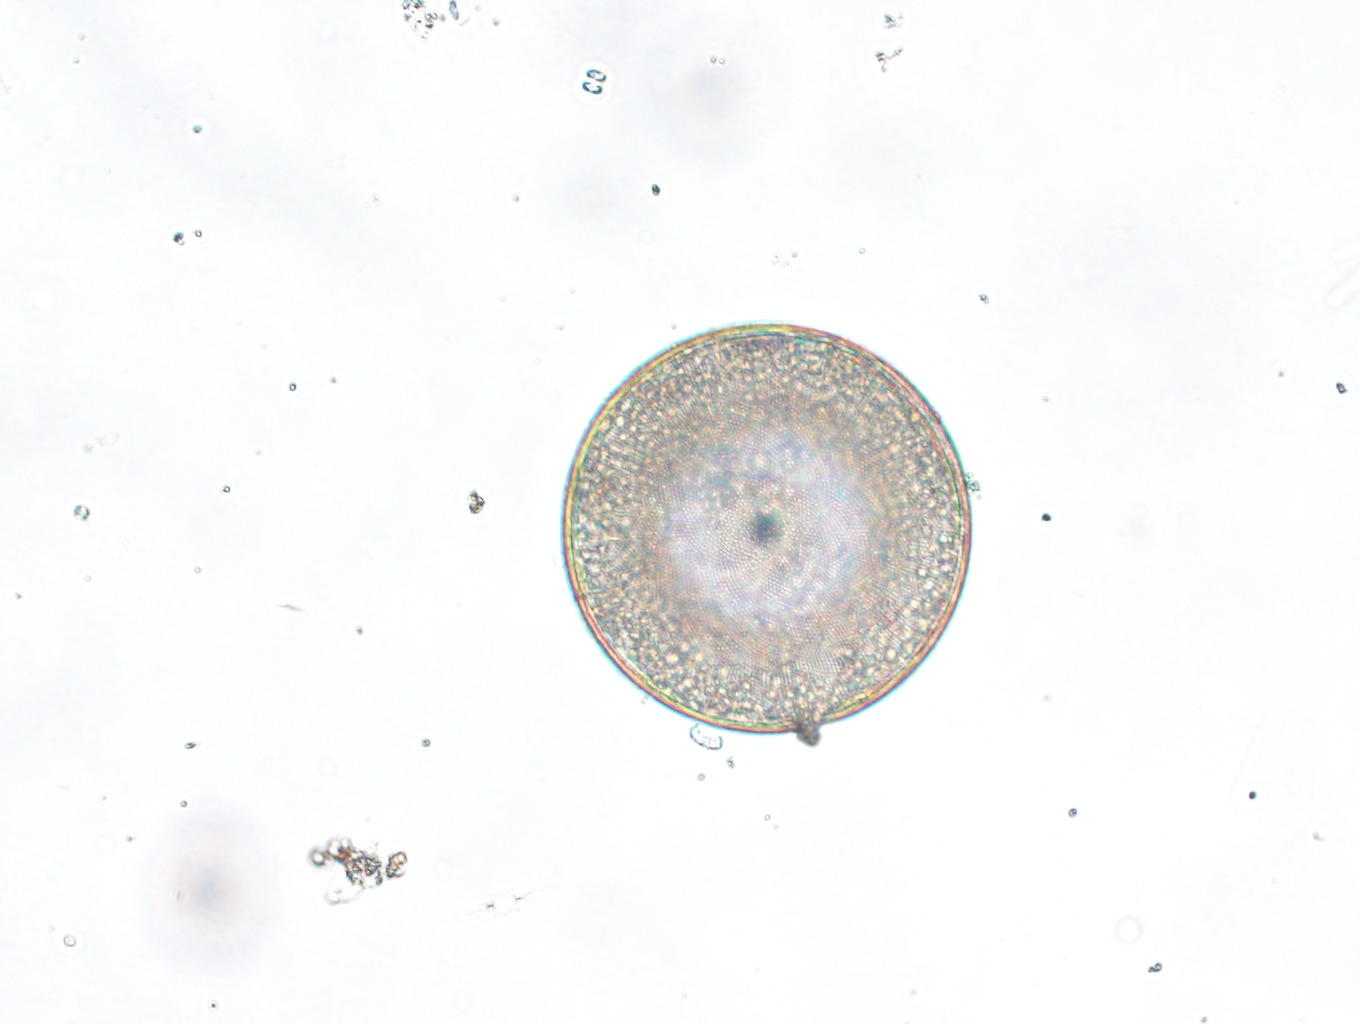coscinodiscus: (555, 319, 979, 744)
